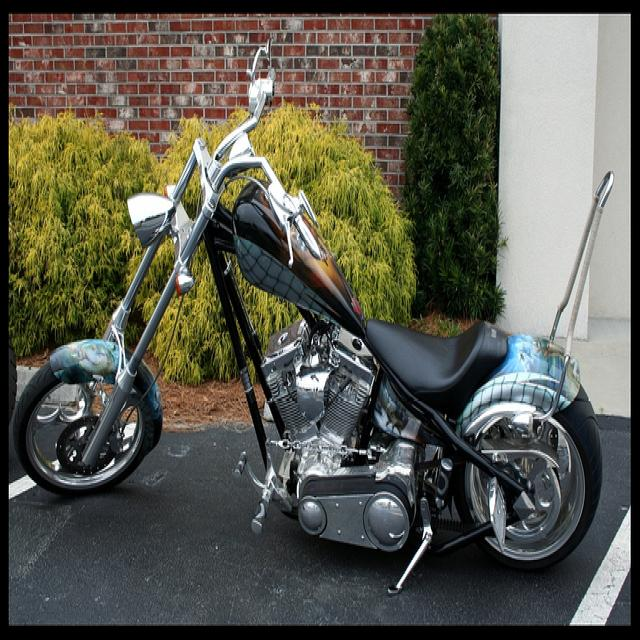motor: (17, 77, 616, 591)
